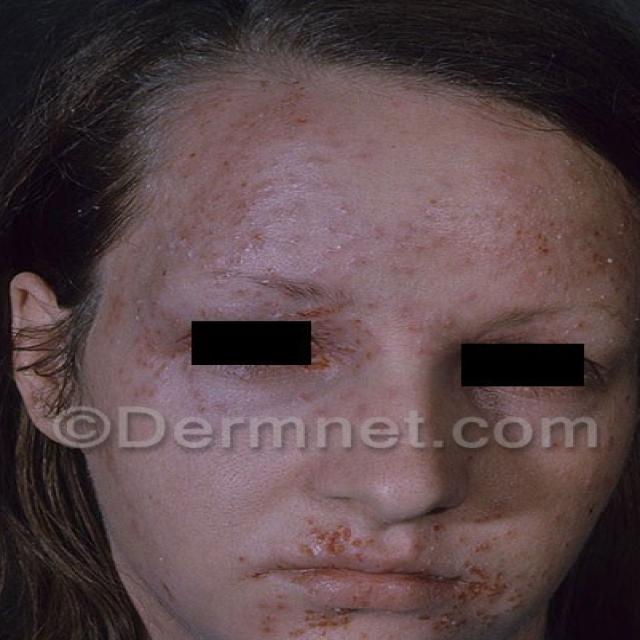Viral Infections: (251, 512, 511, 640), (185, 159, 458, 274), (483, 184, 640, 319), (90, 286, 203, 434), (304, 293, 439, 399), (251, 73, 369, 154)
